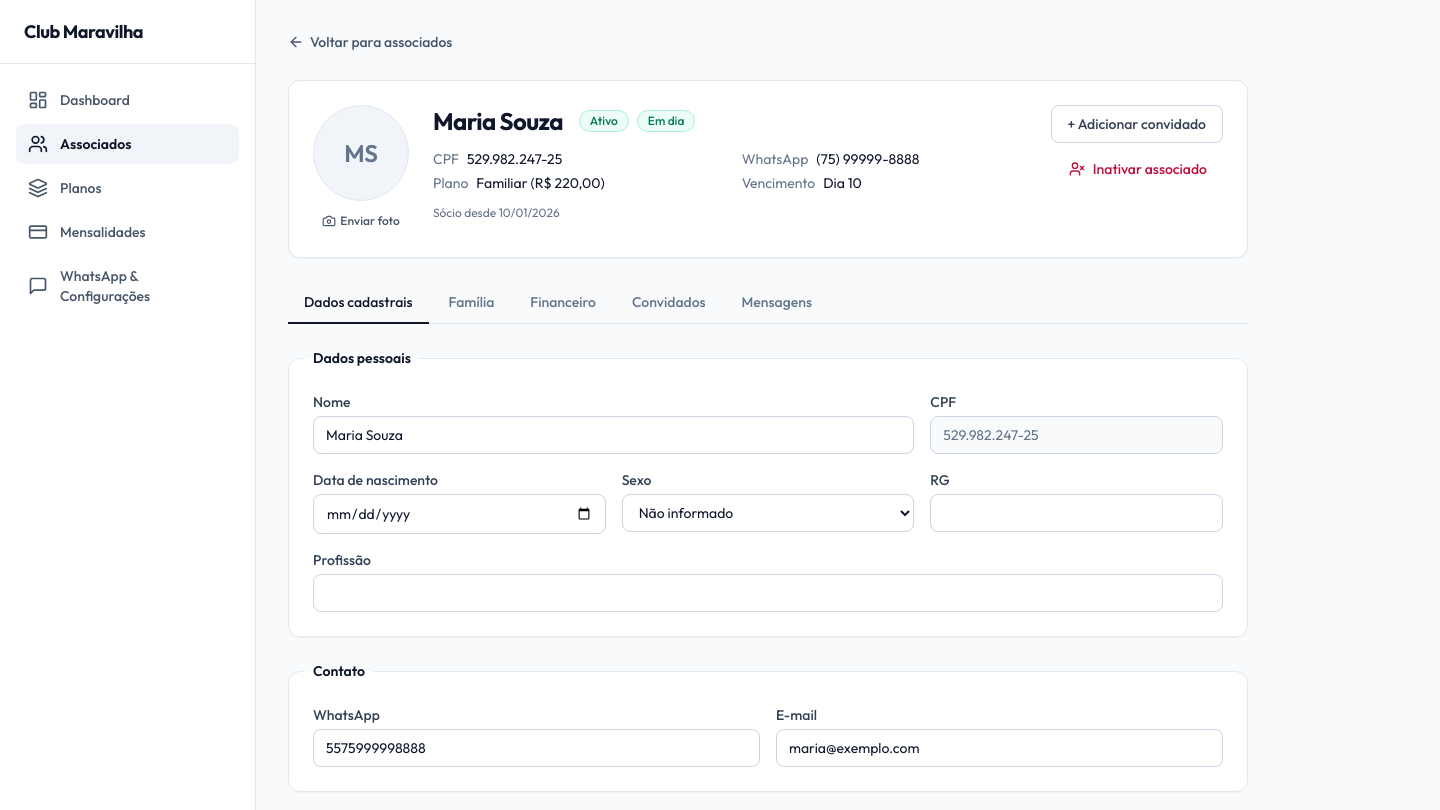
Test: FichaAssociadoPage - histórico › estados vazios
Click the tab "Financeiro". click: (563, 303)
box: [514,282,612,324]
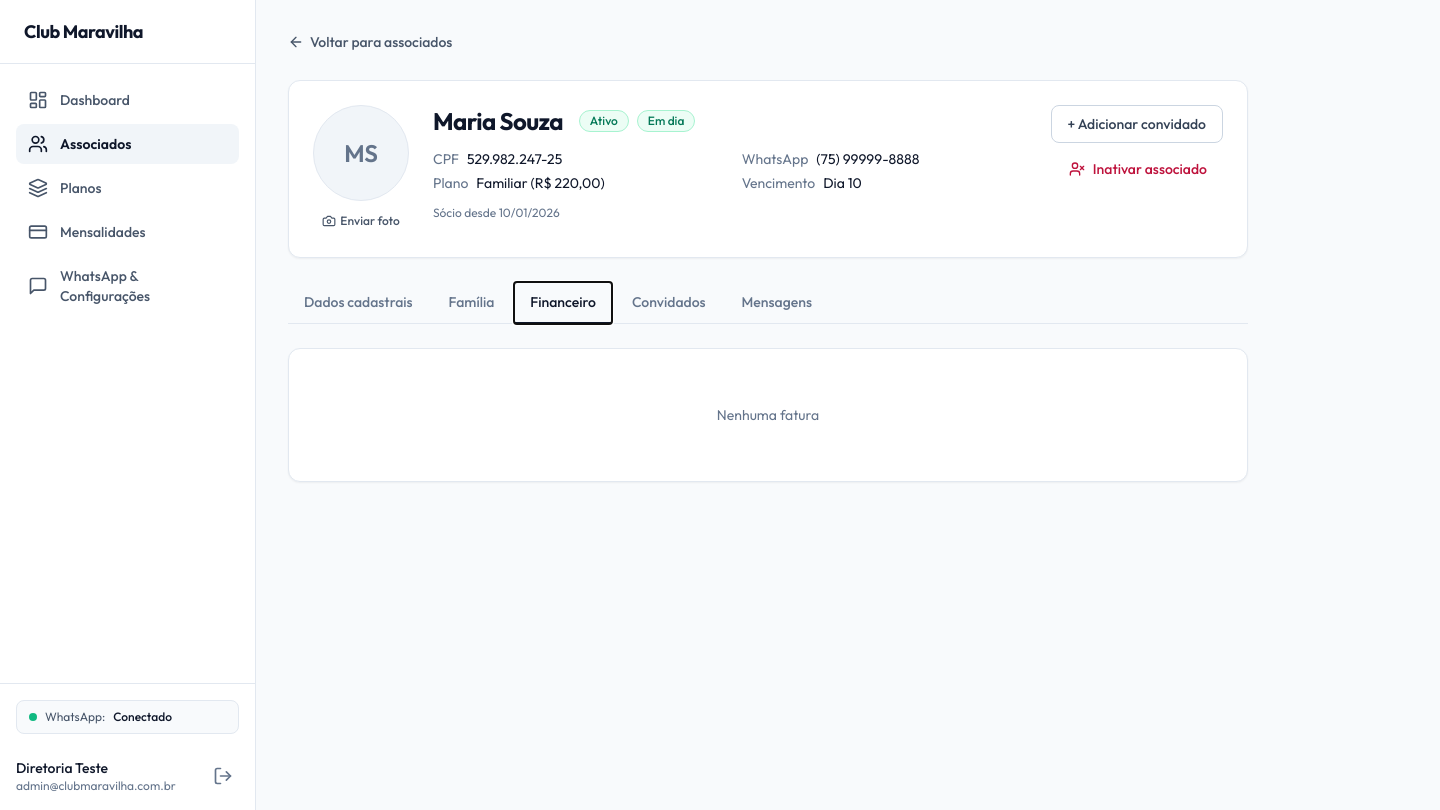
Expected: the text "Nenhuma fatura" is shown, [717,406,819,424]
Click the tab "Convidados". click: (669, 303)
box: [616,282,722,324]
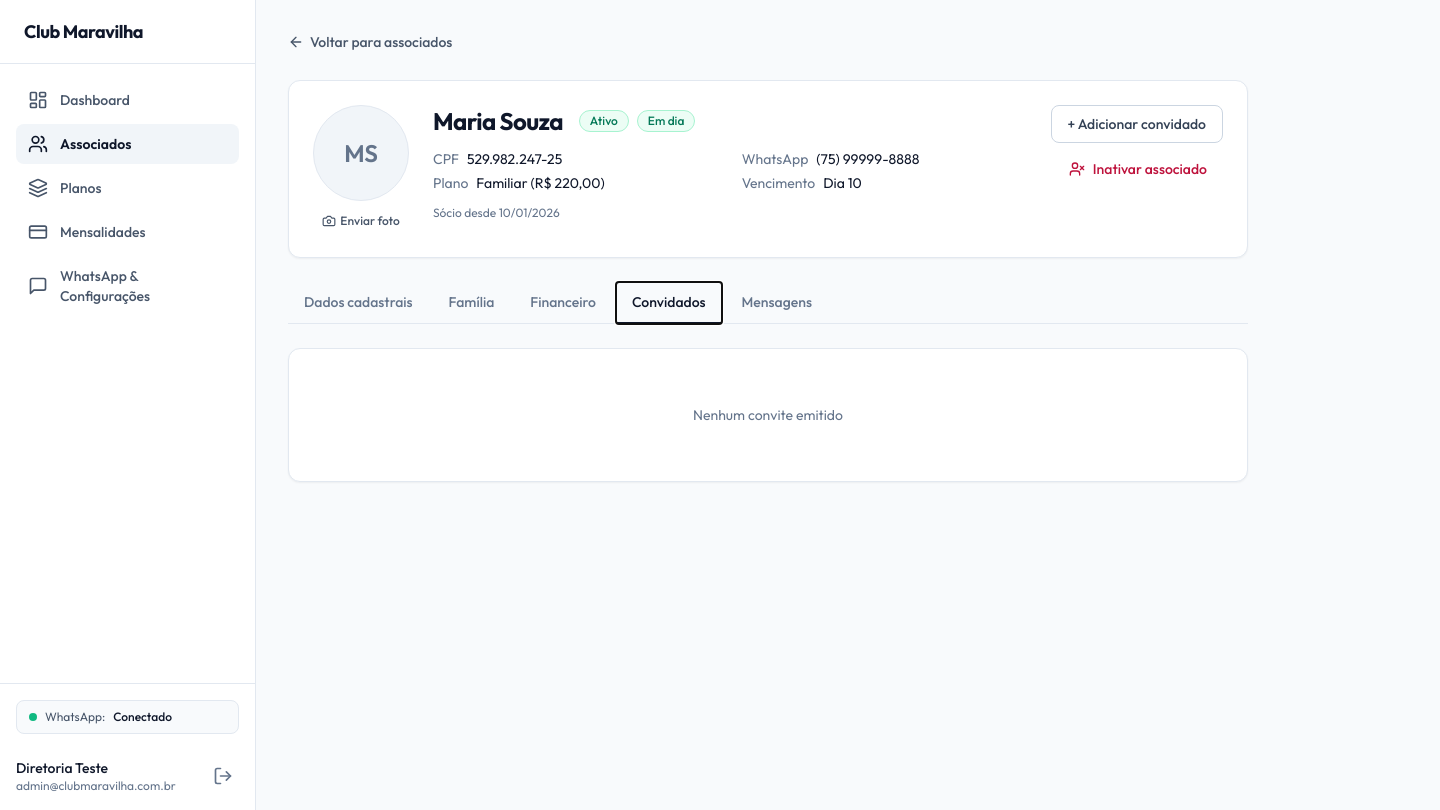
Expected: the text "Nenhum convite emitido" is shown, [693,406,843,424]
Click the tab "Mensagens". click: (777, 303)
box: [726,282,828,324]
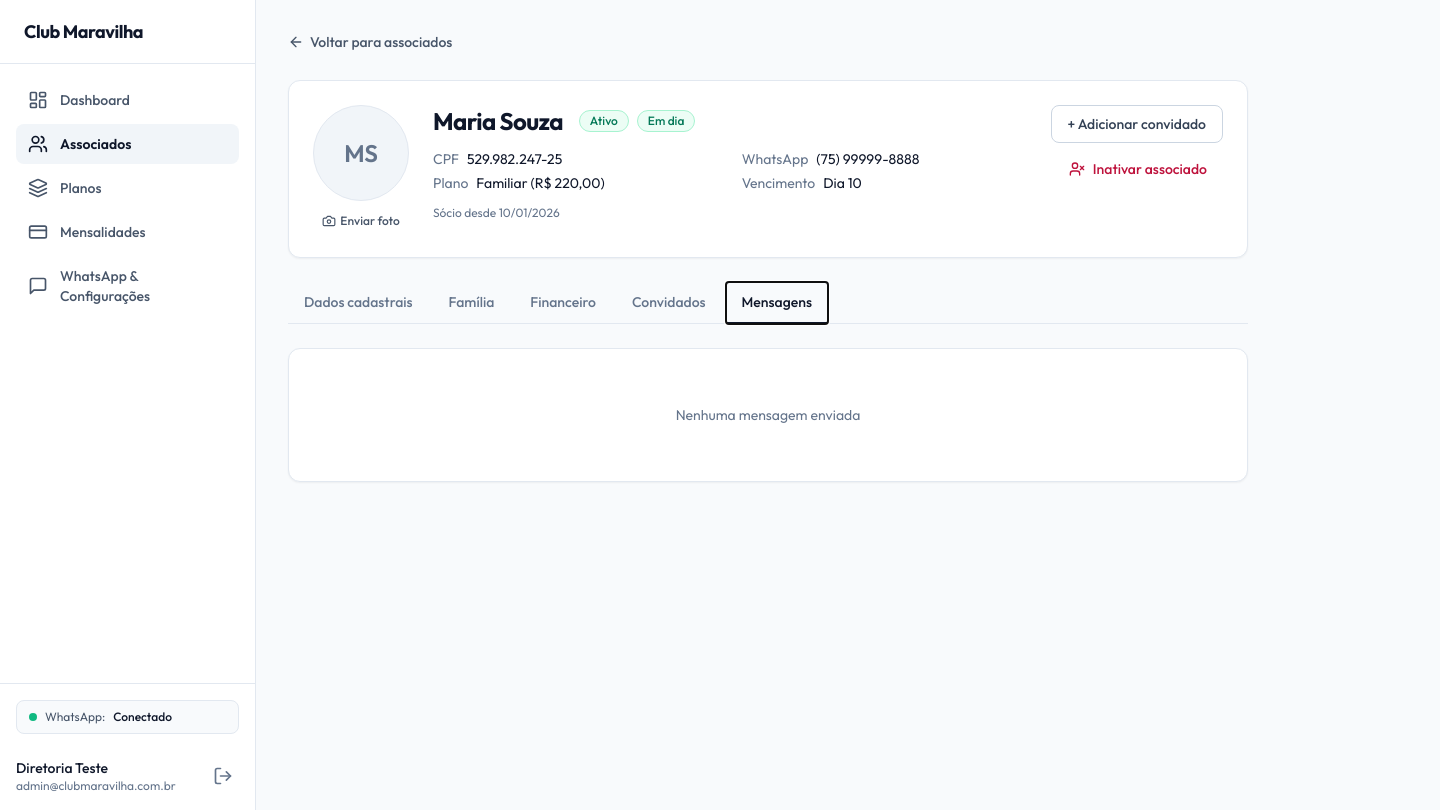
Expected: the text "Nenhuma mensagem enviada" is shown, [676,406,860,424]
